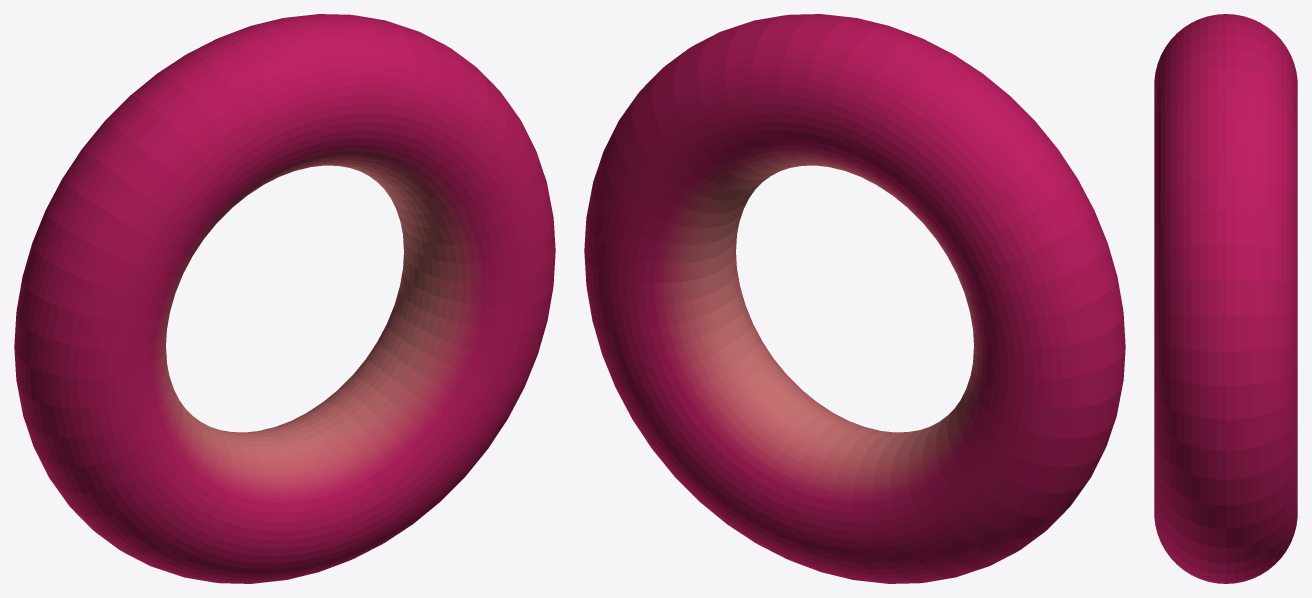
3 renders of one model, left to right at view 1: azimuth 30°, elevation 25°; view 2: azimuth 150°, elevation 25°; view 3: azimuth 270°, elevation 25°, orthographic. The views are drawn at different scales.
Visible parts, largest first — view 1: world; view 2: world; view 3: world.
Boxes of the visible parts, x1,y1,x2,y2 form: world: (14,14,555,583); world: (584,14,1125,583); world: (1154,14,1297,583).
Bounding box in the file's own units: 31.2 × 31.14 × 7.85.
